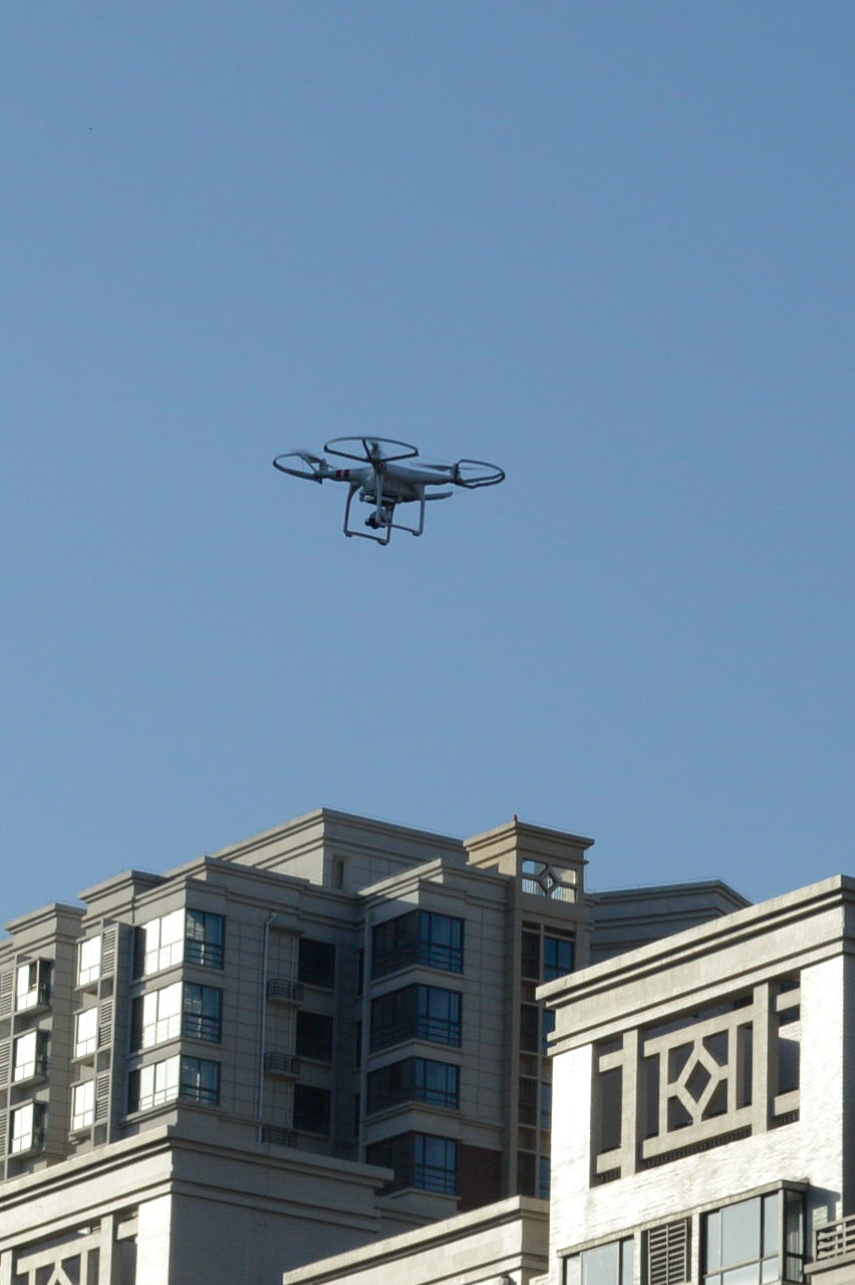DJI: (272, 427, 513, 555)
